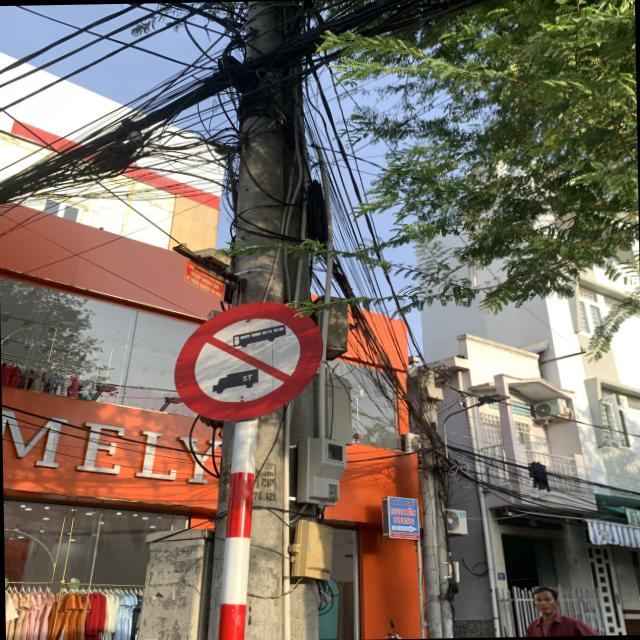Cam_XeTai_XeKhach: (172, 300, 322, 421)
